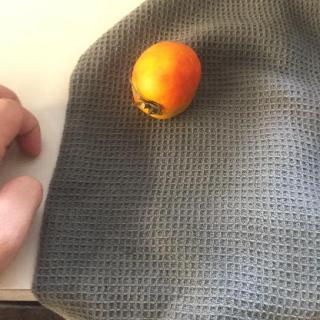Tomat: (114, 38, 220, 132)
